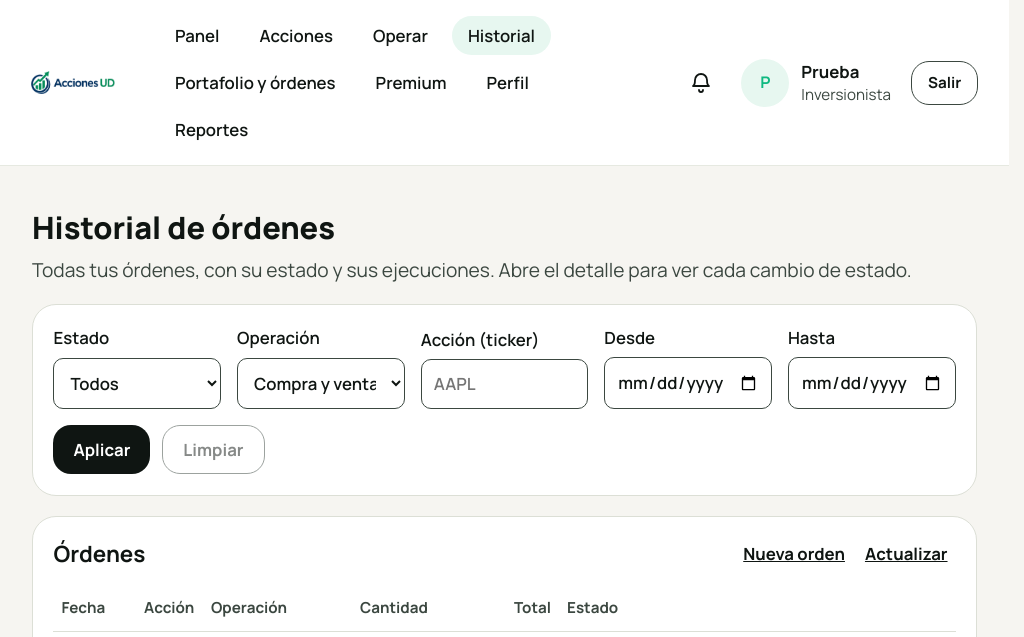
Test: historial de órdenes (SCRUM-62) › un rango de fechas invertido muestra el error y no consulta
Type "2026-11-20" into the date field labelled "Desde" at {"x": 688, "y": 383}, box [604,357,772,409]
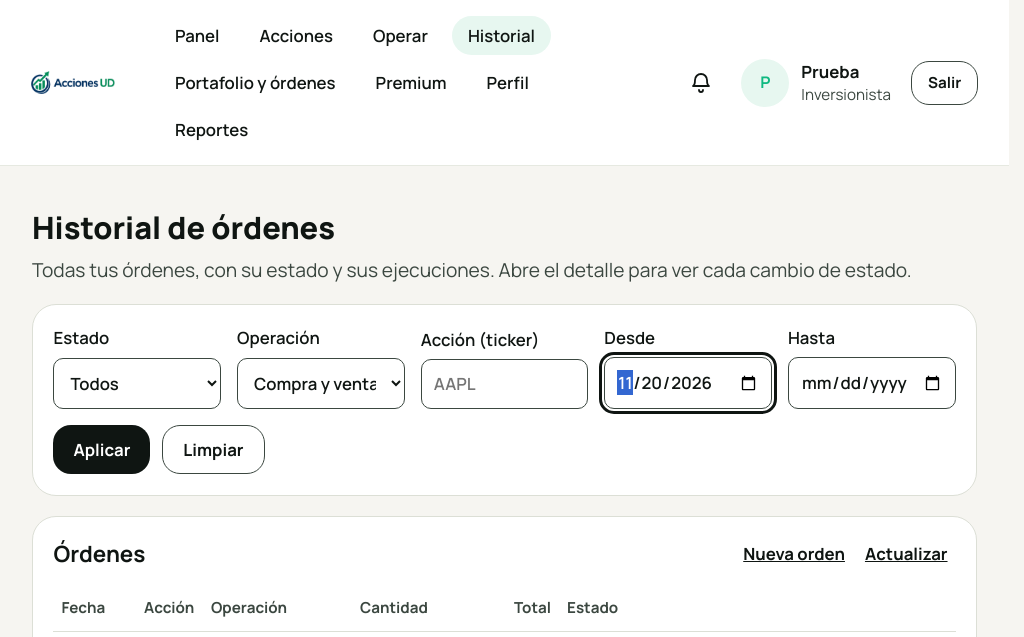
Type "2026-11-10" into the date field labelled "Hasta" at {"x": 872, "y": 383}, box [788,357,956,409]
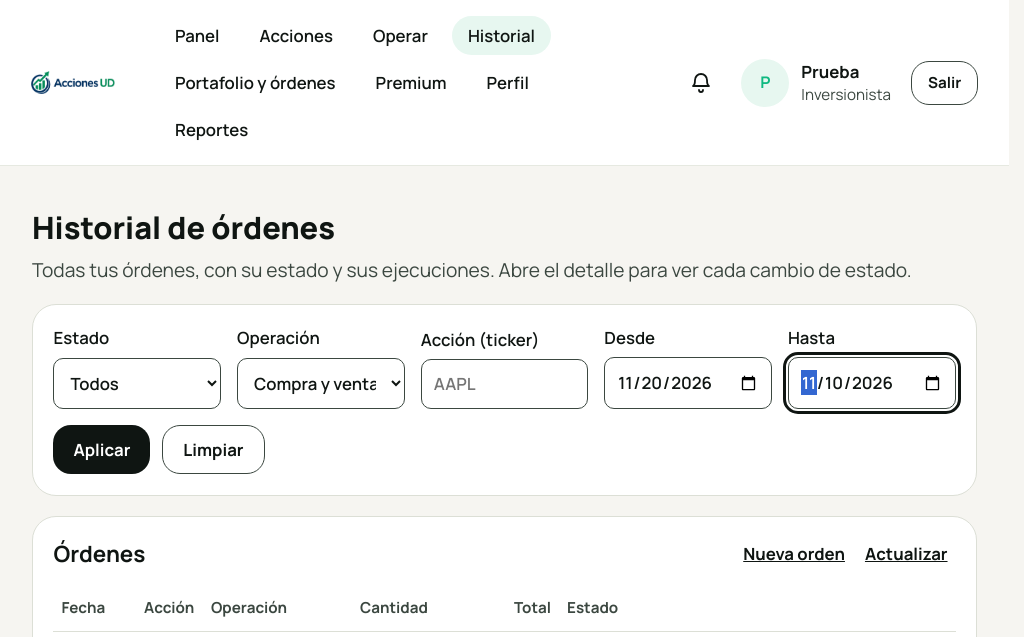
Click the button "Aplicar" at {"x": 102, "y": 450}, box [54,425,150,474]
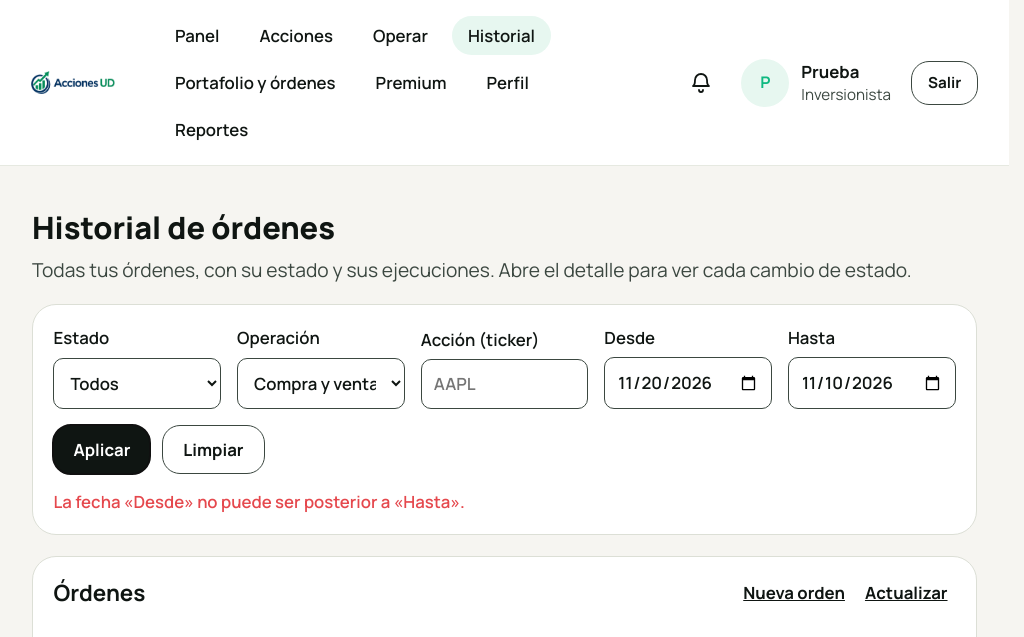
Result: the message shows "Desde" at [54,490,465,513]
